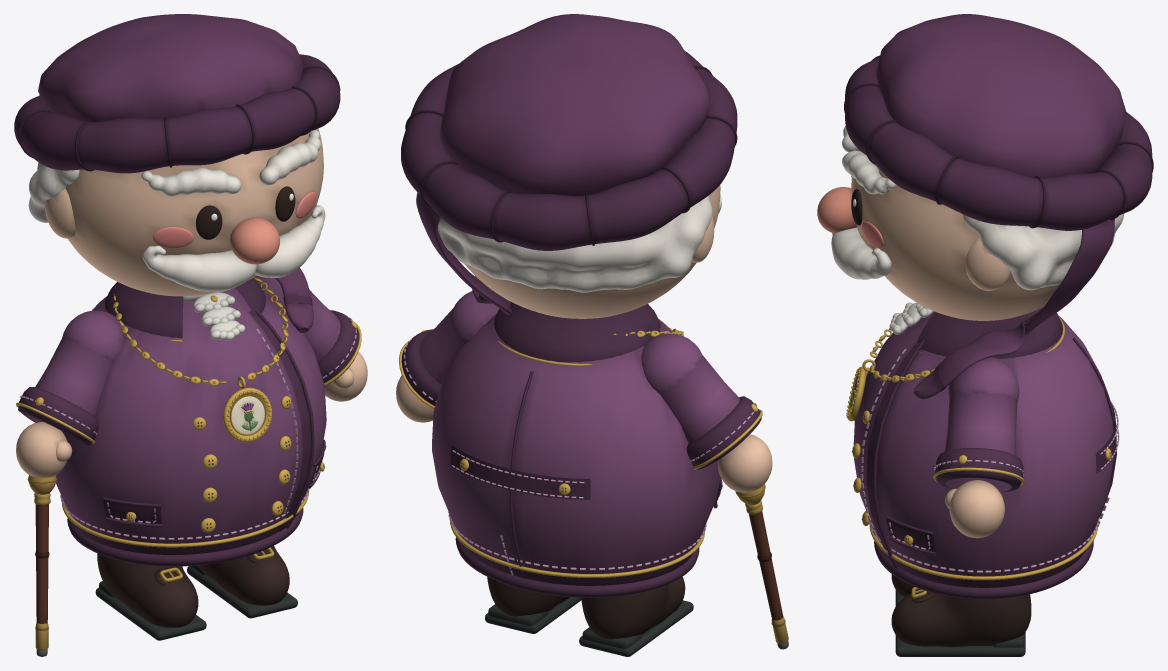
The model's file is mayor.glb.
3 renders of one model, left to right at view 1: azimuth 30°, elevation 25°; view 2: azimuth 150°, elevation 25°; view 3: azimuth 270°, elevation 25°, orthographic. The views are drawn at different scales.
Parts seen in each view (by area): view 1: head, body, arm_r, leg_r, leg_l, arm_l, cane; view 2: head, body, arm_r, arm_l, leg_r, leg_l, cane; view 3: head, body, arm_l, leg_l.
Boxes of the visible parts, <box> form: head: <box>14,14,340,332</box>; body: <box>56,277,326,566</box>; arm_r: <box>16,310,123,477</box>; leg_r: <box>95,553,206,640</box>; leg_l: <box>187,545,297,618</box>; arm_l: <box>254,275,367,401</box>; cane: <box>27,475,56,656</box>; head: <box>401,14,737,318</box>; body: <box>432,302,722,597</box>; arm_r: <box>641,333,772,492</box>; arm_l: <box>396,291,499,422</box>; leg_r: <box>579,576,693,656</box>; leg_l: <box>485,577,581,633</box>; cane: <box>735,484,788,649</box>; head: <box>817,14,1153,399</box>; body: <box>846,302,1119,599</box>; arm_l: <box>933,357,1024,538</box>; leg_l: <box>891,587,1031,656</box>.
Size of the model in its own units: 0.9247 by 1.44 by 0.7503.
